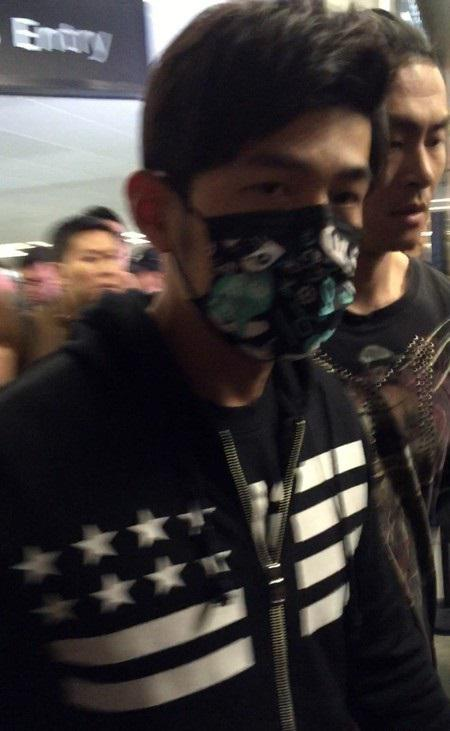NONE: (350, 89, 450, 246), (65, 239, 120, 304)
OK: (189, 140, 373, 358)
